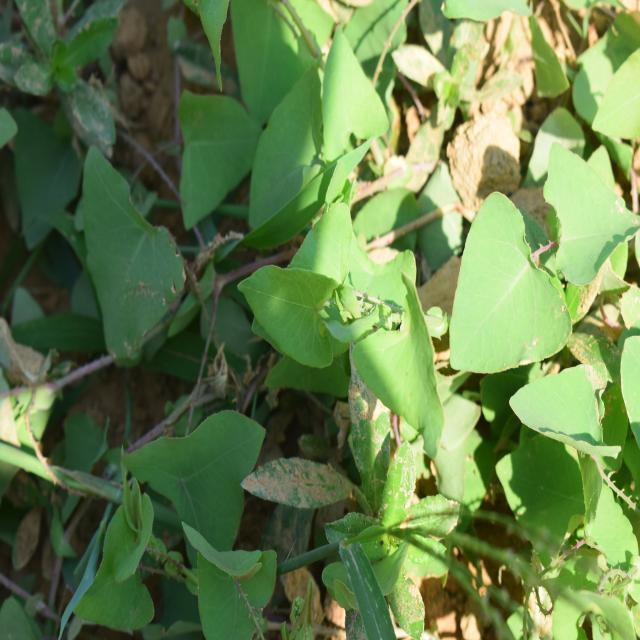Asiatic_Smartweed: (218, 46, 453, 452), (454, 150, 635, 478), (67, 404, 278, 640), (73, 148, 199, 366)
